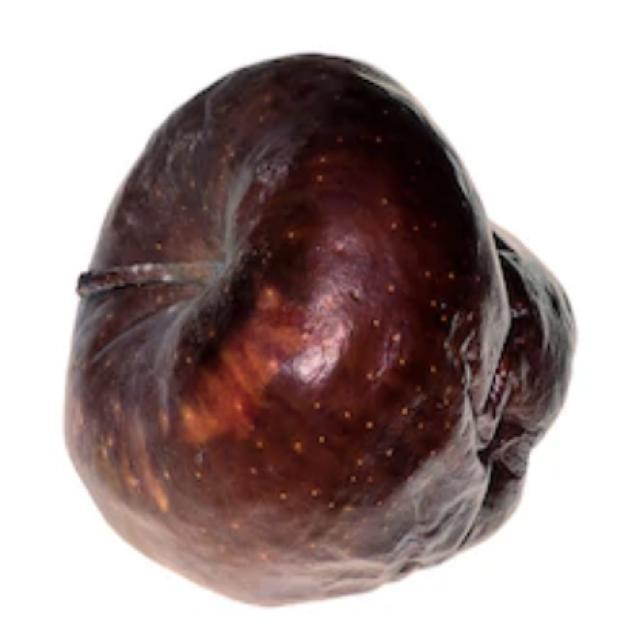Rotten: (81, 56, 582, 606)
